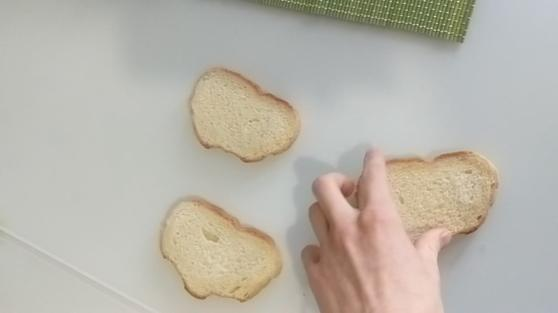white_bread: (154, 191, 290, 308), (185, 60, 311, 166), (367, 152, 500, 244)
